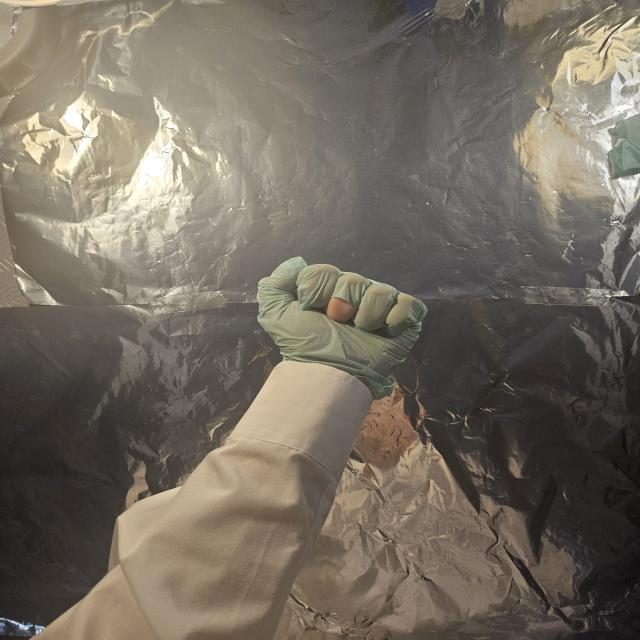gloves_damaged: (257, 253, 427, 400)
